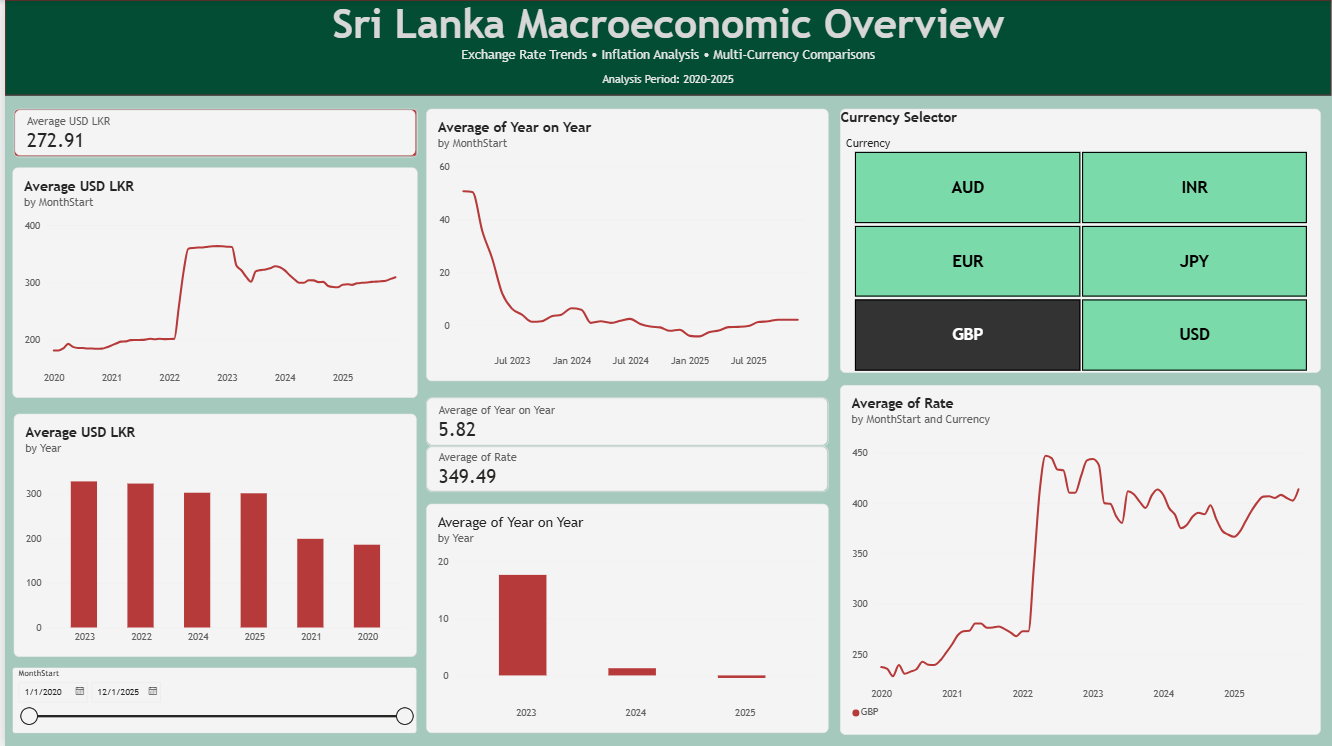

Layout of this report page (visuals, bound fields, positions):
{"tool":"powerbi","page":{"name":"Sri Lanka Macroeconomic Overview","canvas":[1920,1080],"ordinal":0},"visuals":[{"type":"shape","box":[0,0,1920,138],"z":0},{"type":"cardVisual","fields":{"Data":["ExchangeRates.Average USD LKR"]},"box":[12.7,157.4,584.5,70.6],"z":1000},{"type":"lineChart","fields":{"Category":["DimMonth.MonthStart"],"Y":["ExchangeRates.Average USD LKR"]},"box":[10,243.3,586.7,333.3],"z":2000},{"type":"slicer","fields":{"Values":["DimMonth.MonthStart"]},"box":[11.7,966.7,585,95],"z":3000},{"type":"lineChart","fields":{"Category":["DimMonth.MonthStart"],"Y":["Avg(InflationData.Year on Year)"]},"box":[610,158,582,394],"z":4000},{"type":"cardVisual","fields":{"Data":["Avg(InflationData.Year on Year)"]},"box":[610,576,582,70],"z":5000},{"type":"clusteredColumnChart","fields":{"Category":["ExchangeRates.Year"],"Y":["ExchangeRates.Average USD LKR"]},"box":[13.3,598.3,583.3,351.7],"z":6000},{"type":"clusteredColumnChart","fields":{"Category":["InflationData.Year"],"Y":["Avg(InflationData.Year on Year)"]},"box":[610,730,582,332],"z":7000},{"type":"slicer","title":"Currency Selector","fields":{"Values":["CurrencyRates.Currency"]},"box":[1208,158,696,382],"z":8000},{"type":"lineChart","fields":{"Category":["DimMonth.MonthStart"],"Series":["CurrencyRates.Currency"],"Y":["Avg(CurrencyRates.Rate)"]},"box":[1208,558,696,506],"z":9000},{"type":"cardVisual","fields":{"Data":["Avg(CurrencyRates.Rate)"]},"box":[610,646,582,66],"z":10000},{"type":"textbox","box":[0,0,1920,138],"z":11000}]}

Visuals, with their boxes in screenshot pixels (x1, y1, x2, y2), scaled from the page's 1920x1080 canvas onto the 1332x746 screenshot:
shape: {"left": 0, "top": 0, "right": 1331, "bottom": 95}
cardVisual - ExchangeRates.Average USD LKR: {"left": 9, "top": 109, "right": 414, "bottom": 157}
lineChart - DimMonth.MonthStart x ExchangeRates.Average USD LKR: {"left": 7, "top": 168, "right": 414, "bottom": 398}
slicer - DimMonth.MonthStart: {"left": 8, "top": 668, "right": 414, "bottom": 733}
lineChart - DimMonth.MonthStart x Avg(InflationData.Year on Year): {"left": 423, "top": 109, "right": 827, "bottom": 381}
cardVisual - Avg(InflationData.Year on Year): {"left": 423, "top": 398, "right": 827, "bottom": 446}
clusteredColumnChart - ExchangeRates.Year x ExchangeRates.Average USD LKR: {"left": 9, "top": 413, "right": 414, "bottom": 656}
clusteredColumnChart - InflationData.Year x Avg(InflationData.Year on Year): {"left": 423, "top": 504, "right": 827, "bottom": 734}
"Currency Selector" slicer: {"left": 838, "top": 109, "right": 1321, "bottom": 373}
lineChart - DimMonth.MonthStart x CurrencyRates.Currency: {"left": 838, "top": 385, "right": 1321, "bottom": 735}
cardVisual - Avg(CurrencyRates.Rate): {"left": 423, "top": 446, "right": 827, "bottom": 492}
textbox: {"left": 0, "top": 0, "right": 1331, "bottom": 95}
